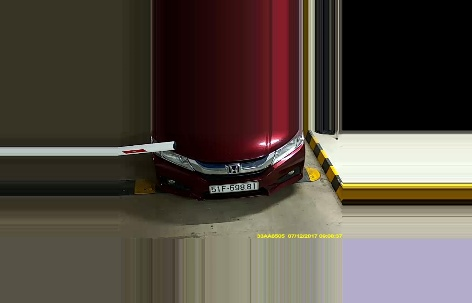plate: (210, 180, 264, 195)
